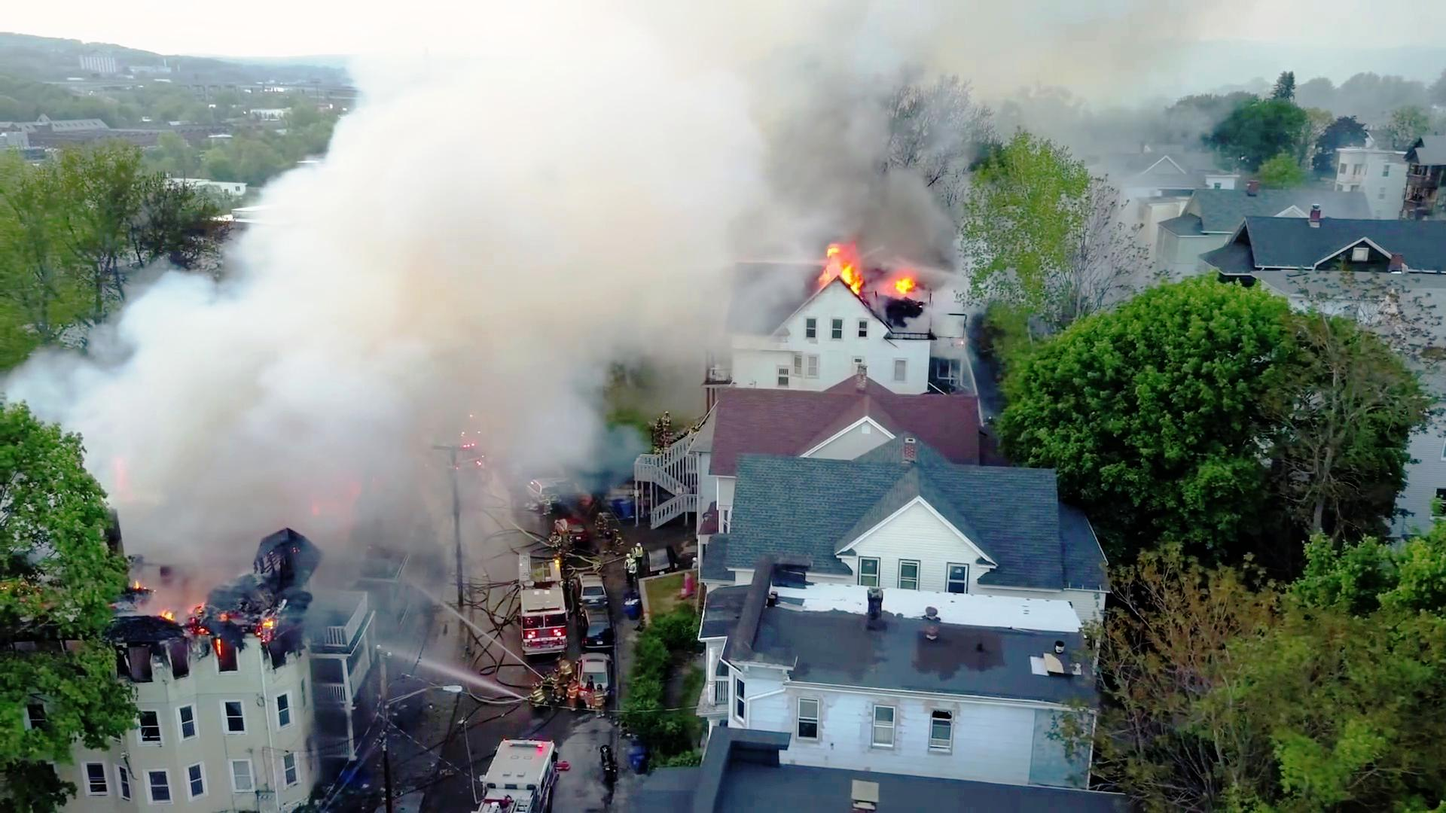fire: (801, 222, 927, 309)
